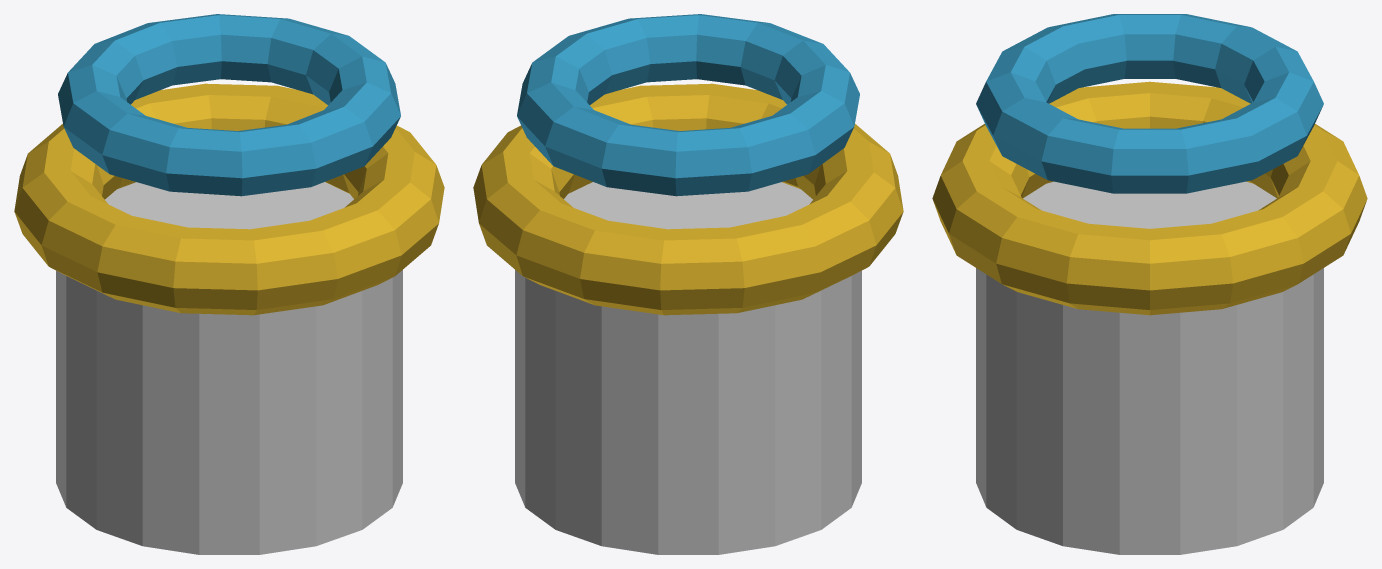
Rendered from emp_payload.obj.
The picture shows the model from 3 angles, left to right: view 1: azimuth 30°, elevation 25°; view 2: azimuth 150°, elevation 25°; view 3: azimuth 270°, elevation 25°; orthographic projection.
Visible parts, largest first — view 1: emp_payload; view 2: emp_payload; view 3: emp_payload.
Part boxes in pixels (<box>): emp_payload: <box>14,14,444,554</box>; emp_payload: <box>473,14,903,554</box>; emp_payload: <box>932,14,1367,554</box>.
Bounding box in the file's own units: 0.25 × 0.26 × 0.25.
